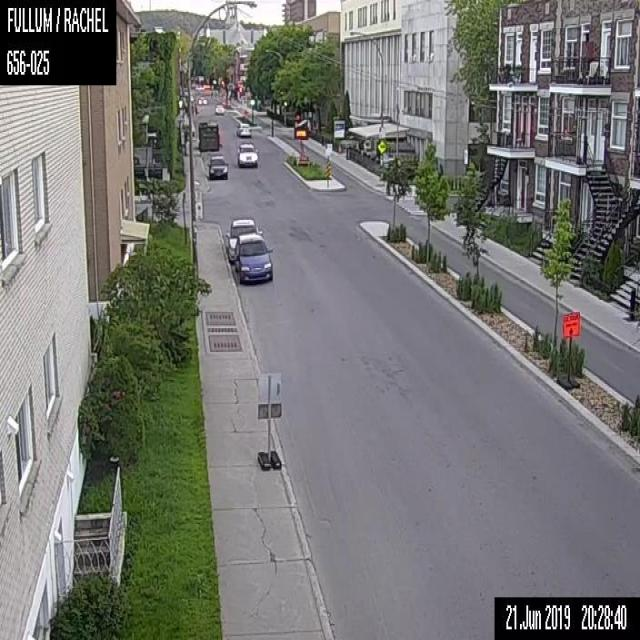construction: (559, 310, 580, 390), (292, 126, 310, 166)
vehicle: (234, 233, 272, 283), (224, 218, 262, 261), (206, 154, 228, 179), (236, 143, 258, 168), (236, 122, 252, 136), (214, 104, 225, 114), (197, 96, 207, 104)
